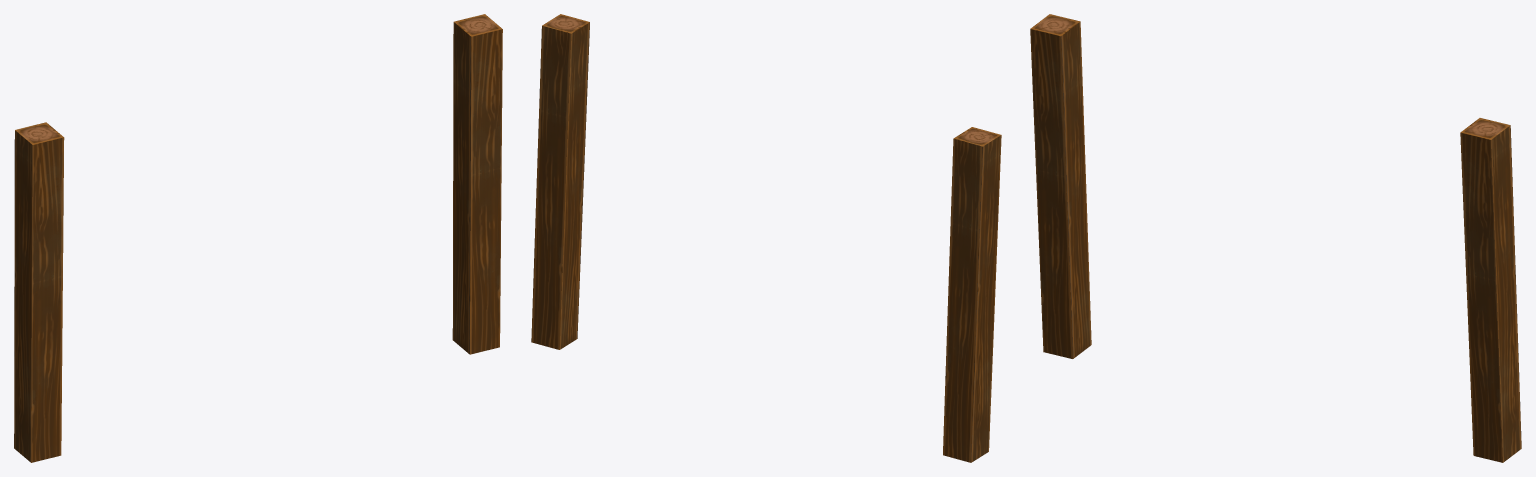
3 renders of one model, left to right at view 1: azimuth 30°, elevation 25°; view 2: azimuth 150°, elevation 25°; view 3: azimuth 330°, elevation 25°, orthographic. The views are drawn at different scales.
Parts seen in each view (by area): view 1: Cube.1986; view 2: Cube.1986; view 3: Cube.1986.
Boxes of the visible parts, x1,y1,x2,y2 form: Cube.1986: (14, 14, 502, 462); Cube.1986: (531, 14, 1001, 462); Cube.1986: (1030, 14, 1521, 462).
Size of the model in its own units: 841 by 572 by 98.05.
Materials: 1 (1 with a texture image).
